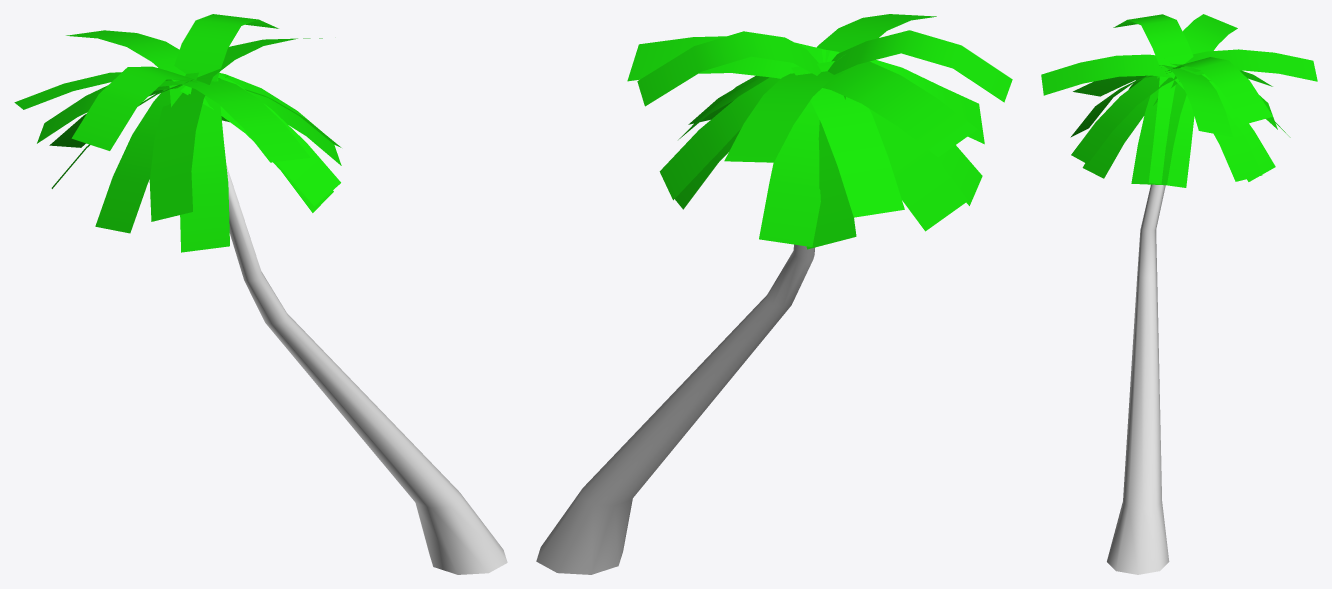
The model's file is Palmtree3.fbx.
The picture shows the model from 3 angles, left to right: view 1: azimuth 30°, elevation 25°; view 2: azimuth 150°, elevation 25°; view 3: azimuth 270°, elevation 25°; orthographic projection. The views are drawn at different scales.
Parts seen in each view (by area): view 1: PalmTree3; view 2: PalmTree3; view 3: PalmTree3.
Part boxes in pixels (box(x1,y1,x2,y2)): PalmTree3: box(14, 14, 507, 574); PalmTree3: box(536, 14, 1012, 574); PalmTree3: box(1041, 14, 1317, 574).
Size of the model in its own units: 241 by 290 by 172.
